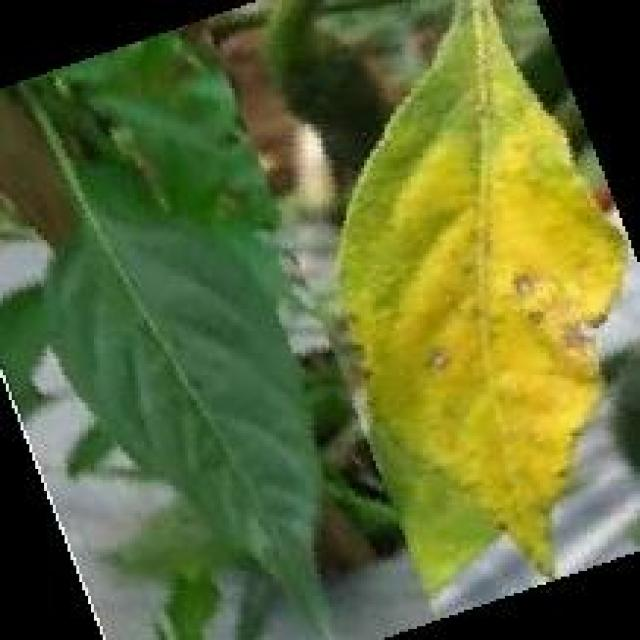Rust: (335, 39, 619, 566)
